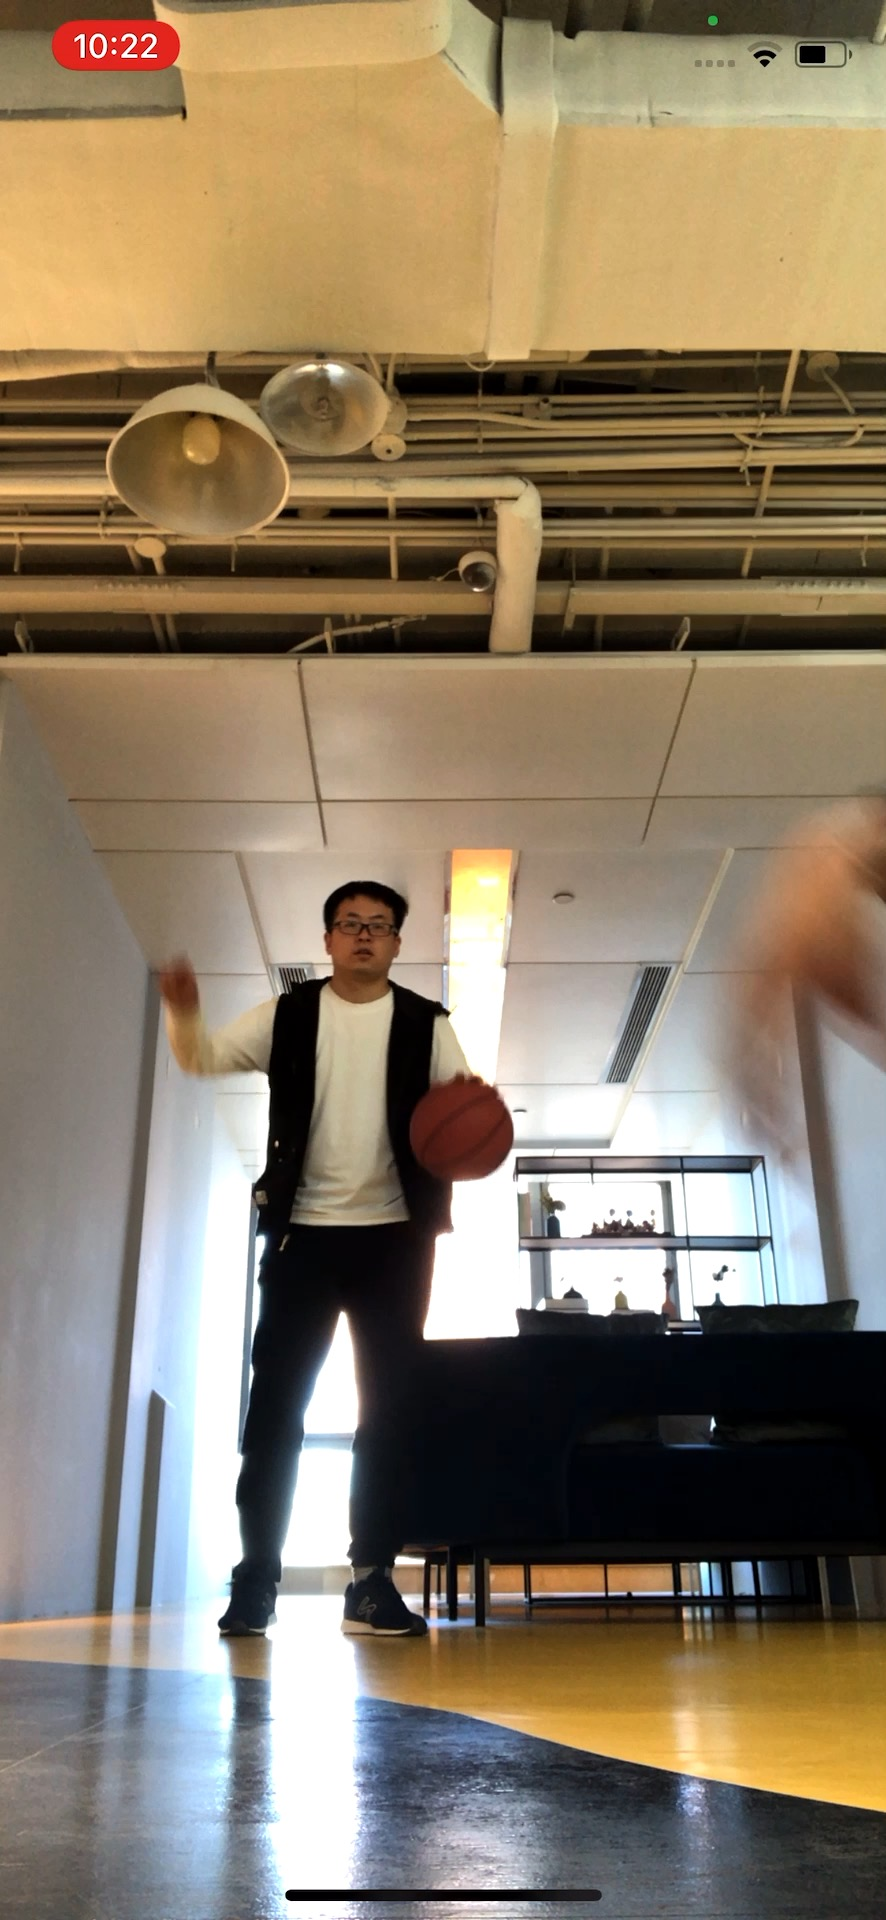ball: (404, 1078, 514, 1184)
